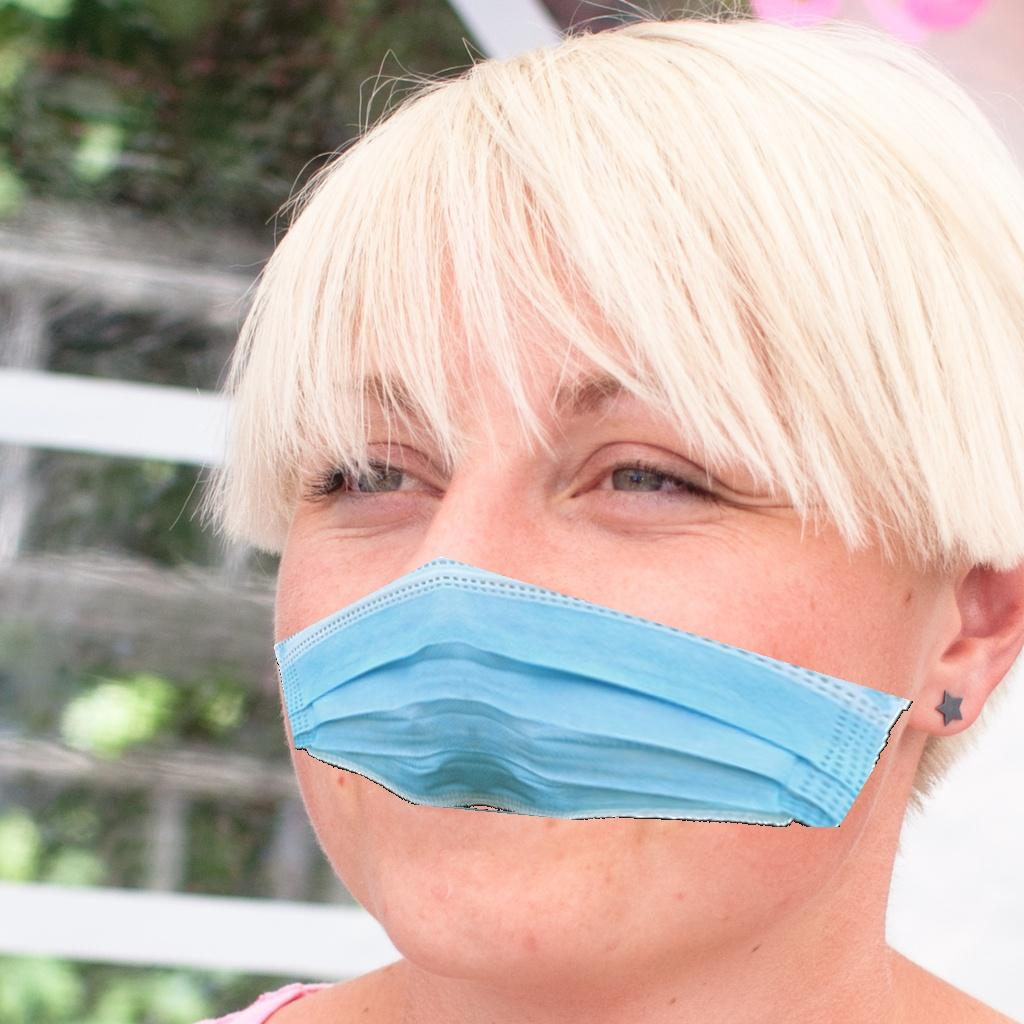Máscara Incorreta: (230, 262, 936, 965)
